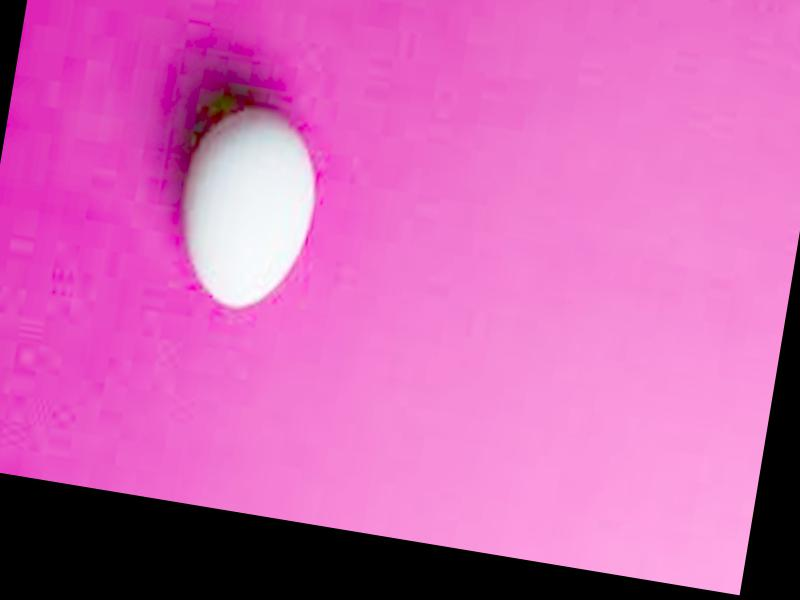Eggs: (169, 101, 327, 317)
